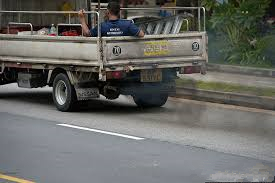smoke: (162, 79, 275, 132)
